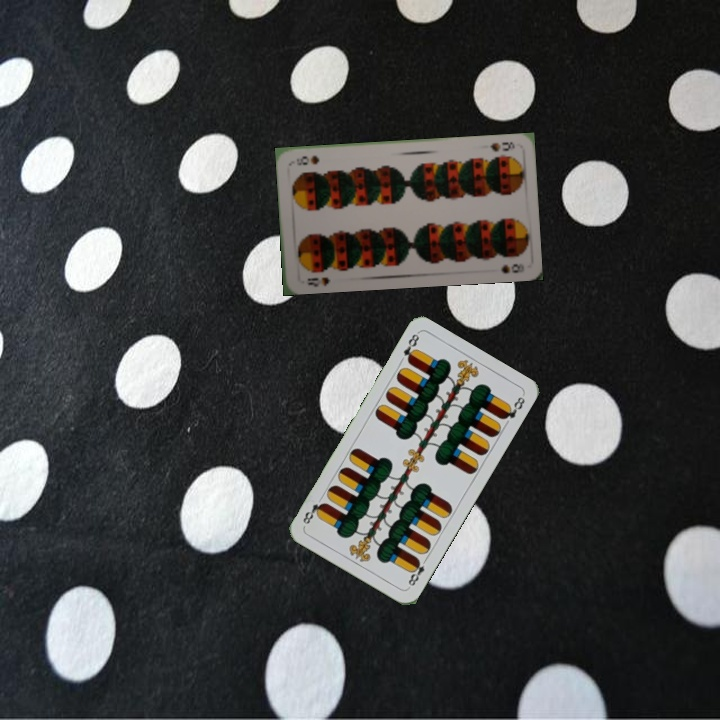E8: (403, 554, 430, 591), (399, 330, 422, 365)
S8: (486, 138, 517, 154), (304, 273, 333, 289)
